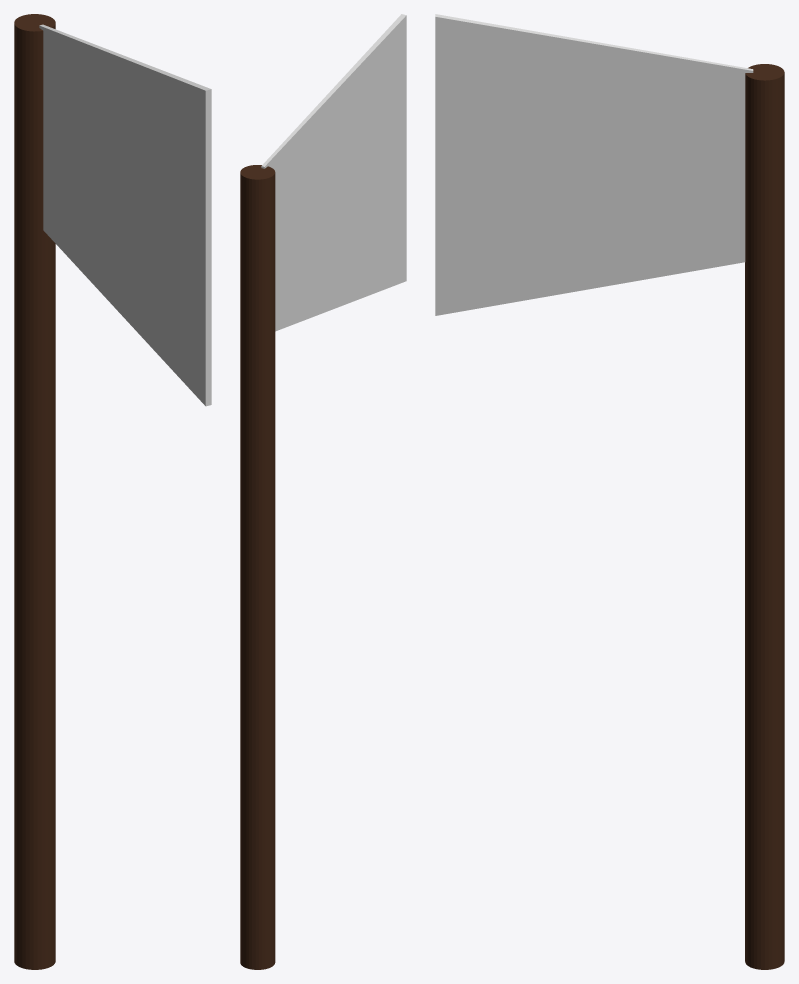
Rendered from axe.dae.
The picture shows the model from 3 angles, left to right: view 1: azimuth 30°, elevation 25°; view 2: azimuth 150°, elevation 25°; view 3: azimuth 270°, elevation 25°; orthographic projection. The views are drawn at different scales.
Visible parts, largest first — view 1: Cube; view 2: Cube; view 3: Cube.
Boxes of the visible parts, x1,y1,x2,y2 form: Cube: (14,14,211,969); Cube: (240,14,406,969); Cube: (435,14,784,969).
Bounding box in the file's own units: 0.0285 × 0.253 × 0.7569.
